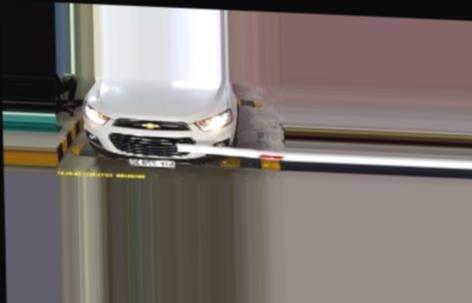License_Plate: (129, 153, 178, 171)
